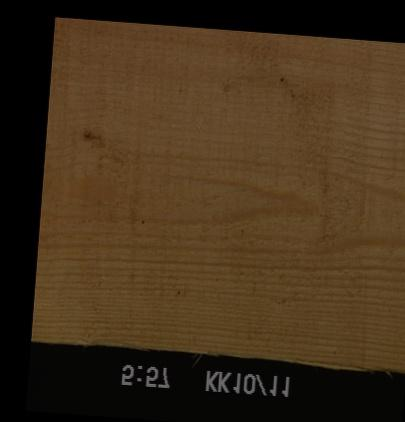small_knot: (79, 127, 91, 140)
